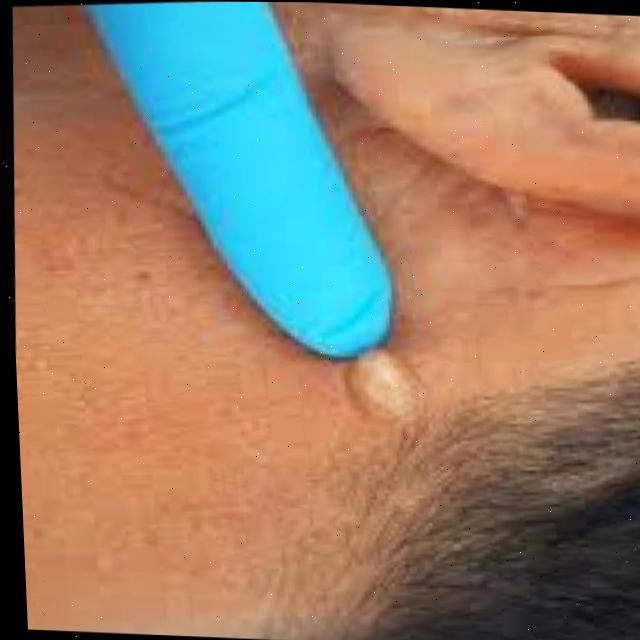Eczema: (344, 365, 430, 425)
